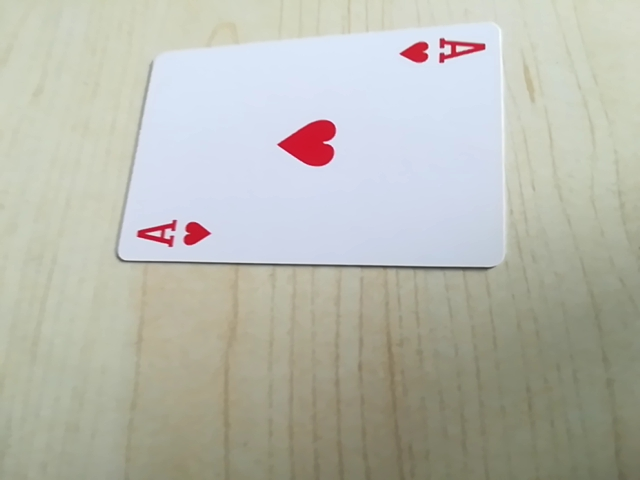hx a: (396, 30, 487, 72), (129, 214, 216, 255)
